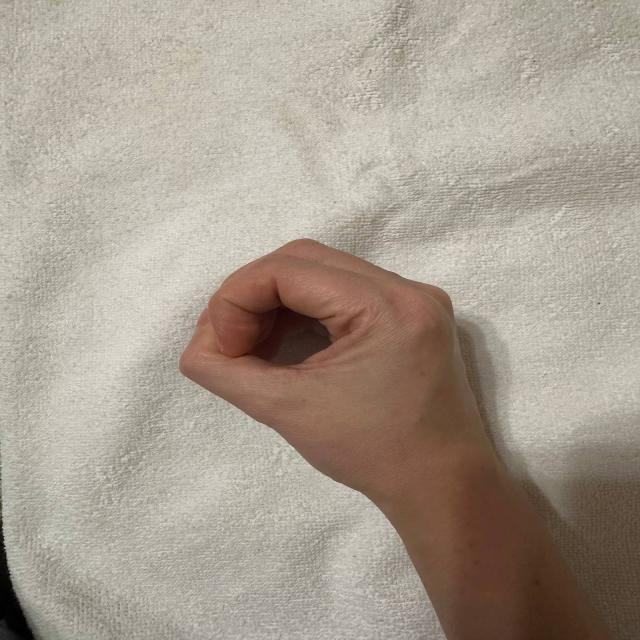e: (176, 232, 551, 486)
